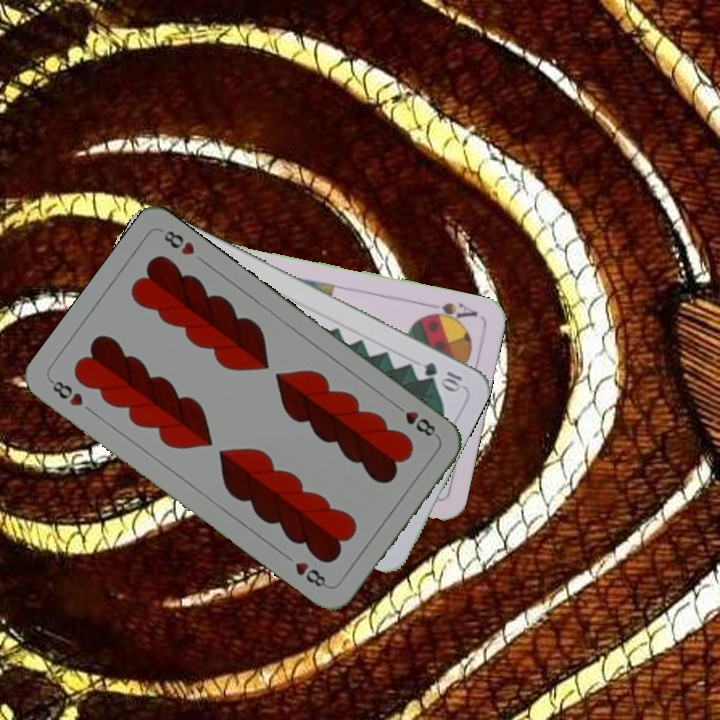G10: (420, 358, 466, 393)
H8: (390, 399, 441, 439), (46, 376, 86, 409)
SA: (420, 298, 480, 327)
